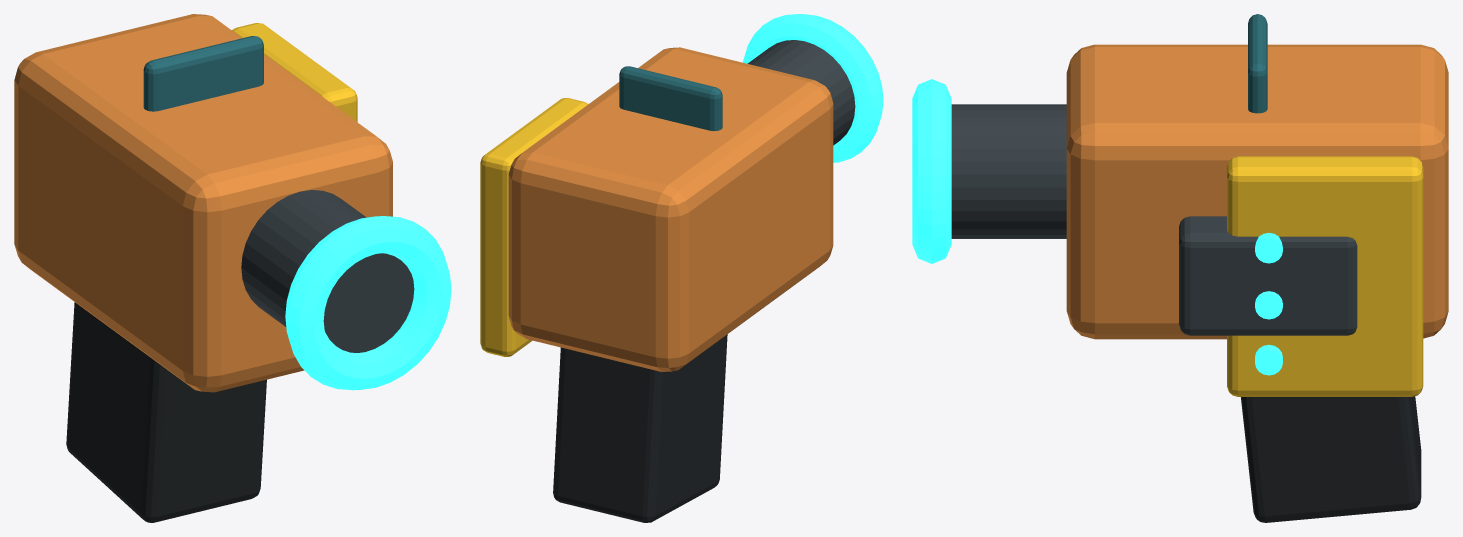
The model's file is build_gun_variant_b.glb.
3 renders of one model, left to right at view 1: azimuth 30°, elevation 25°; view 2: azimuth 150°, elevation 25°; view 3: azimuth 270°, elevation 25°, orthographic. The views are drawn at different scales.
Parts seen in each view (by area): view 1: Tool body, Tool grip, Emitter rim, Tool barrel, Top display, Reinforced side armor; view 2: Tool body, Tool grip, Reinforced side armor, Emitter rim, Top display, Tool barrel; view 3: Tool body, Reinforced side armor, Tool grip, Side module, Tool barrel, Emitter rim, Top display, Status indicator, Status indicator.002, Status indicator.001.
Part boxes in pixels (left/top/right/bottom): Tool body: left=14, top=14, right=392, bottom=392; Tool grip: left=66, top=302, right=266, bottom=522; Emitter rim: left=285, top=216, right=451, bottom=390; Tool barrel: left=241, top=190, right=414, bottom=352; Top display: left=143, top=36, right=263, bottom=111; Reinforced side armor: left=232, top=23, right=357, bottom=121; Tool body: left=508, top=47, right=833, bottom=371; Tool grip: left=553, top=334, right=727, bottom=522; Reinforced side armor: left=480, top=98, right=588, bottom=356; Emitter rim: left=742, top=14, right=883, bottom=162; Top display: left=619, top=66, right=722, bottom=131; Tool barrel: left=747, top=40, right=855, bottom=145; Tool body: left=1066, top=44, right=1448, bottom=339; Reinforced side armor: left=1227, top=156, right=1423, bottom=396; Tool grip: left=1241, top=396, right=1421, bottom=522; Side module: left=1179, top=216, right=1357, bottom=335; Tool barrel: left=951, top=104, right=1066, bottom=238; Emitter rim: left=912, top=79, right=951, bottom=263; Top display: left=1248, top=14, right=1267, bottom=113; Status indicator: left=1255, top=344, right=1282, bottom=375; Status indicator.002: left=1255, top=233, right=1282, bottom=263; Status indicator.001: left=1255, top=291, right=1282, bottom=319.
Size of what is drawn, in the model's own units: 0.5225 by 0.9018 by 0.955.
